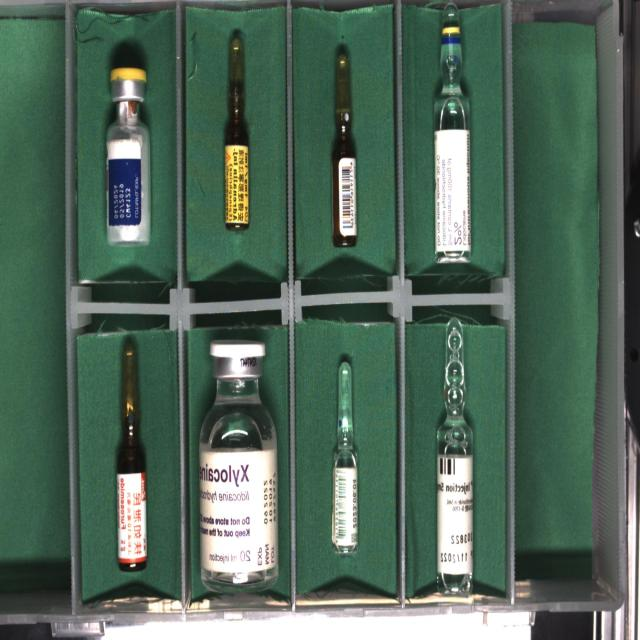Vials: (200, 340, 279, 593), (107, 67, 150, 244)
